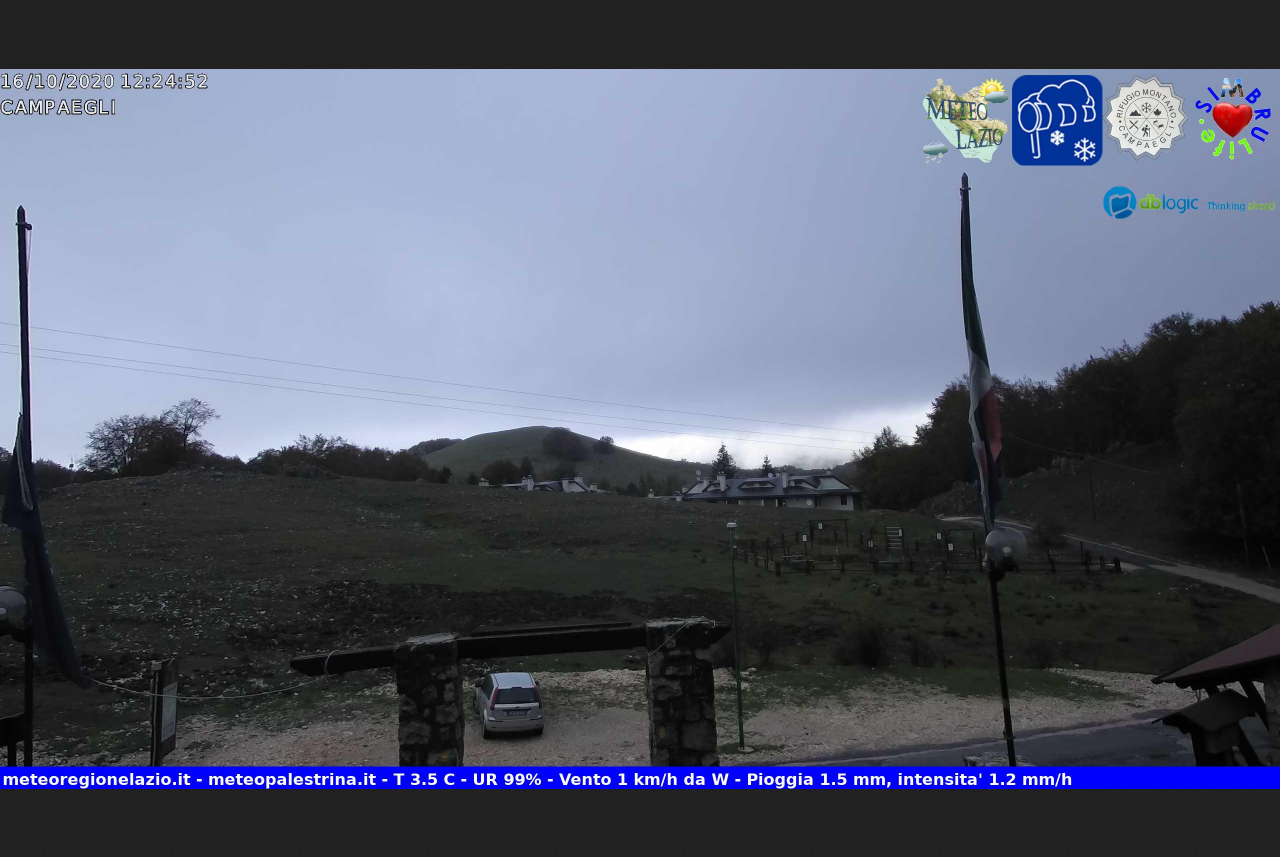no: (948, 167, 1033, 562), (7, 387, 96, 711)
